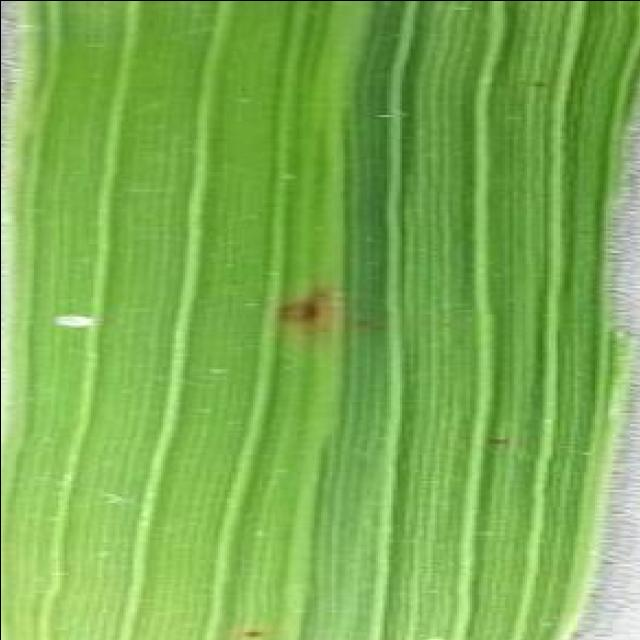Brown_Spot: (274, 288, 340, 340), (480, 432, 522, 460), (522, 74, 556, 98), (371, 322, 396, 344), (237, 625, 272, 640), (350, 314, 372, 334)
